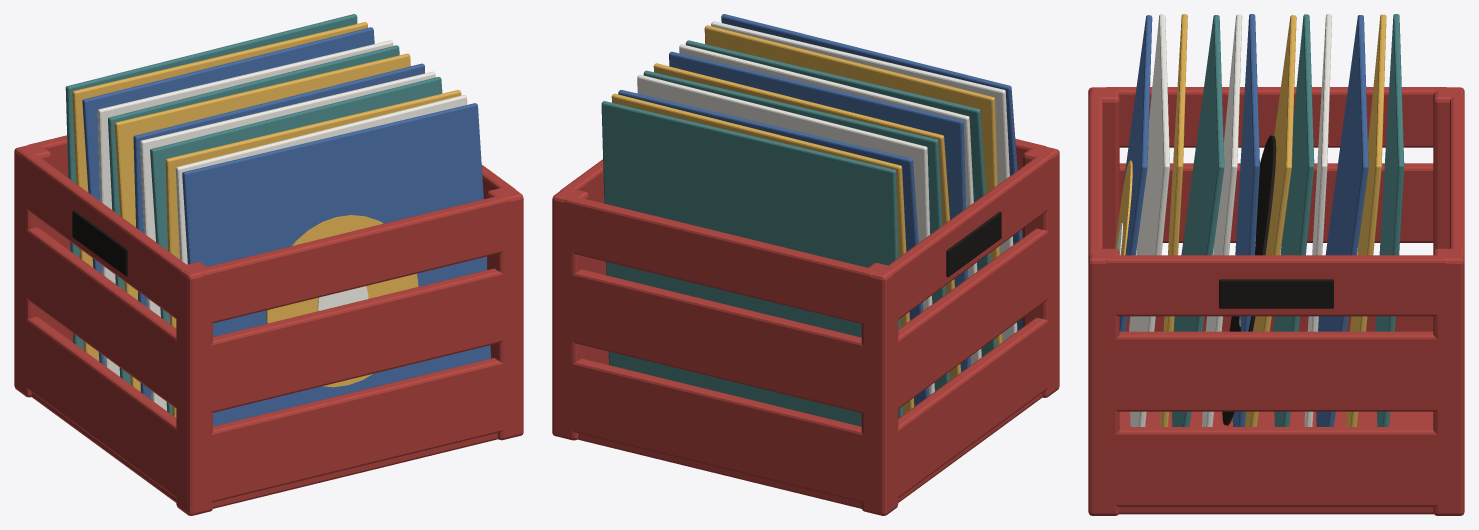
The model's file is hh_cat_vinyl_crate.glb.
The picture shows the model from 3 angles, left to right: view 1: azimuth 30°, elevation 25°; view 2: azimuth 150°, elevation 25°; view 3: azimuth 270°, elevation 25°; orthographic projection. The views are drawn at different scales.
Parts seen in each view (by area): view 1: sleeve, slat.004, slat, slat.008, slat.002, slat.006, post, slat.010, sleeve.006, sleeve.003, sleeve.009, post.002 (+14 smaller); view 2: sleeve.011, slat.001, slat.005, slat.009, slat.006, slat.002, post.001, slat.010, sleeve.005, sleeve.002, sleeve.008, post.003 (+12 smaller); view 3: slat.007, slat.003, slat.011, slat.010, post.002, post.003, sleeve.009, sleeve.003, slat.006, sleeve.007, sleeve.001, base (+16 smaller).
Part boxes in pixels (x1,y1,x2,y2): sleeve: (182,103,491,426); slat.004: (205,268,509,412); slat: (211,358,503,502); slat.008: (202,196,510,323); slat.002: (21,317,180,499); slat.006: (21,227,180,408); post: (176,262,212,515); slat.010: (21,153,186,319); sleeve.006: (114,53,410,391); sleeve.003: (150,77,442,414); sleeve.009: (82,27,374,365); post.002: (487,186,523,440); sleeve.011: (601,101,903,426); slat.001: (572,358,865,502); slat.005: (572,269,863,413); slat.009: (565,197,872,323); slat.006: (895,228,1052,408); slat.002: (896,317,1052,497); post.001: (861,263,898,515); slat.010: (888,154,1052,319); sleeve.005: (669,51,970,372); sleeve.002: (704,25,1002,345); sleeve.008: (637,74,934,395); post.003: (552,187,588,440); slat.007: (1107,331,1445,411); slat.003: (1107,427,1444,506); slat.011: (1105,255,1447,316); slat.010: (1106,87,1446,147); post.002: (1088,248,1119,515); post.003: (1433,248,1464,515); sleeve.009: (1316,15,1368,426); sleeve.003: (1172,15,1224,426); slat.006: (1119,163,1433,242); sleeve.007: (1273,14,1314,426); sleeve.001: (1129,14,1169,426); base: (1119,411,1433,514).
Size of the model in its own units: 0.4 by 0.36 by 0.36.
